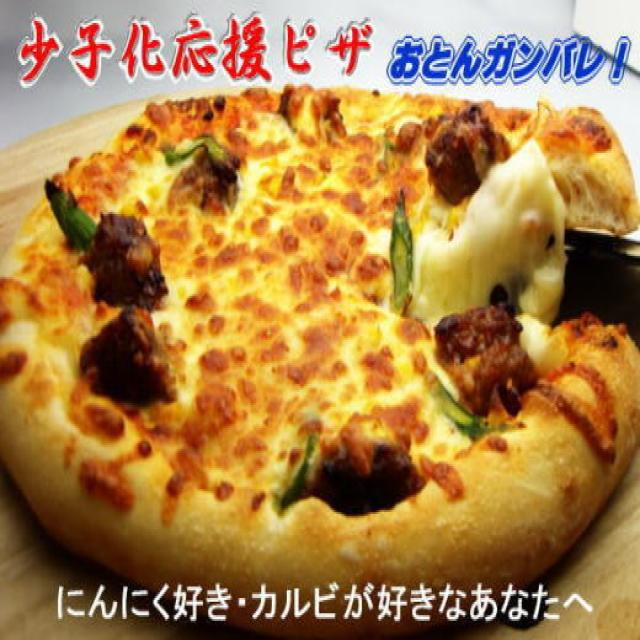汉堡快餐: (0, 86, 640, 567)
